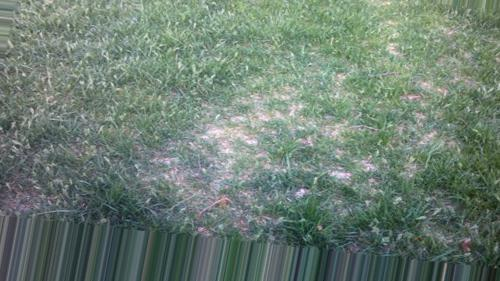patch: (144, 116, 277, 172), (303, 154, 375, 195), (178, 176, 258, 212), (33, 60, 80, 112), (251, 79, 299, 114), (6, 182, 50, 210), (305, 118, 342, 136), (401, 143, 420, 175), (327, 70, 347, 97)
